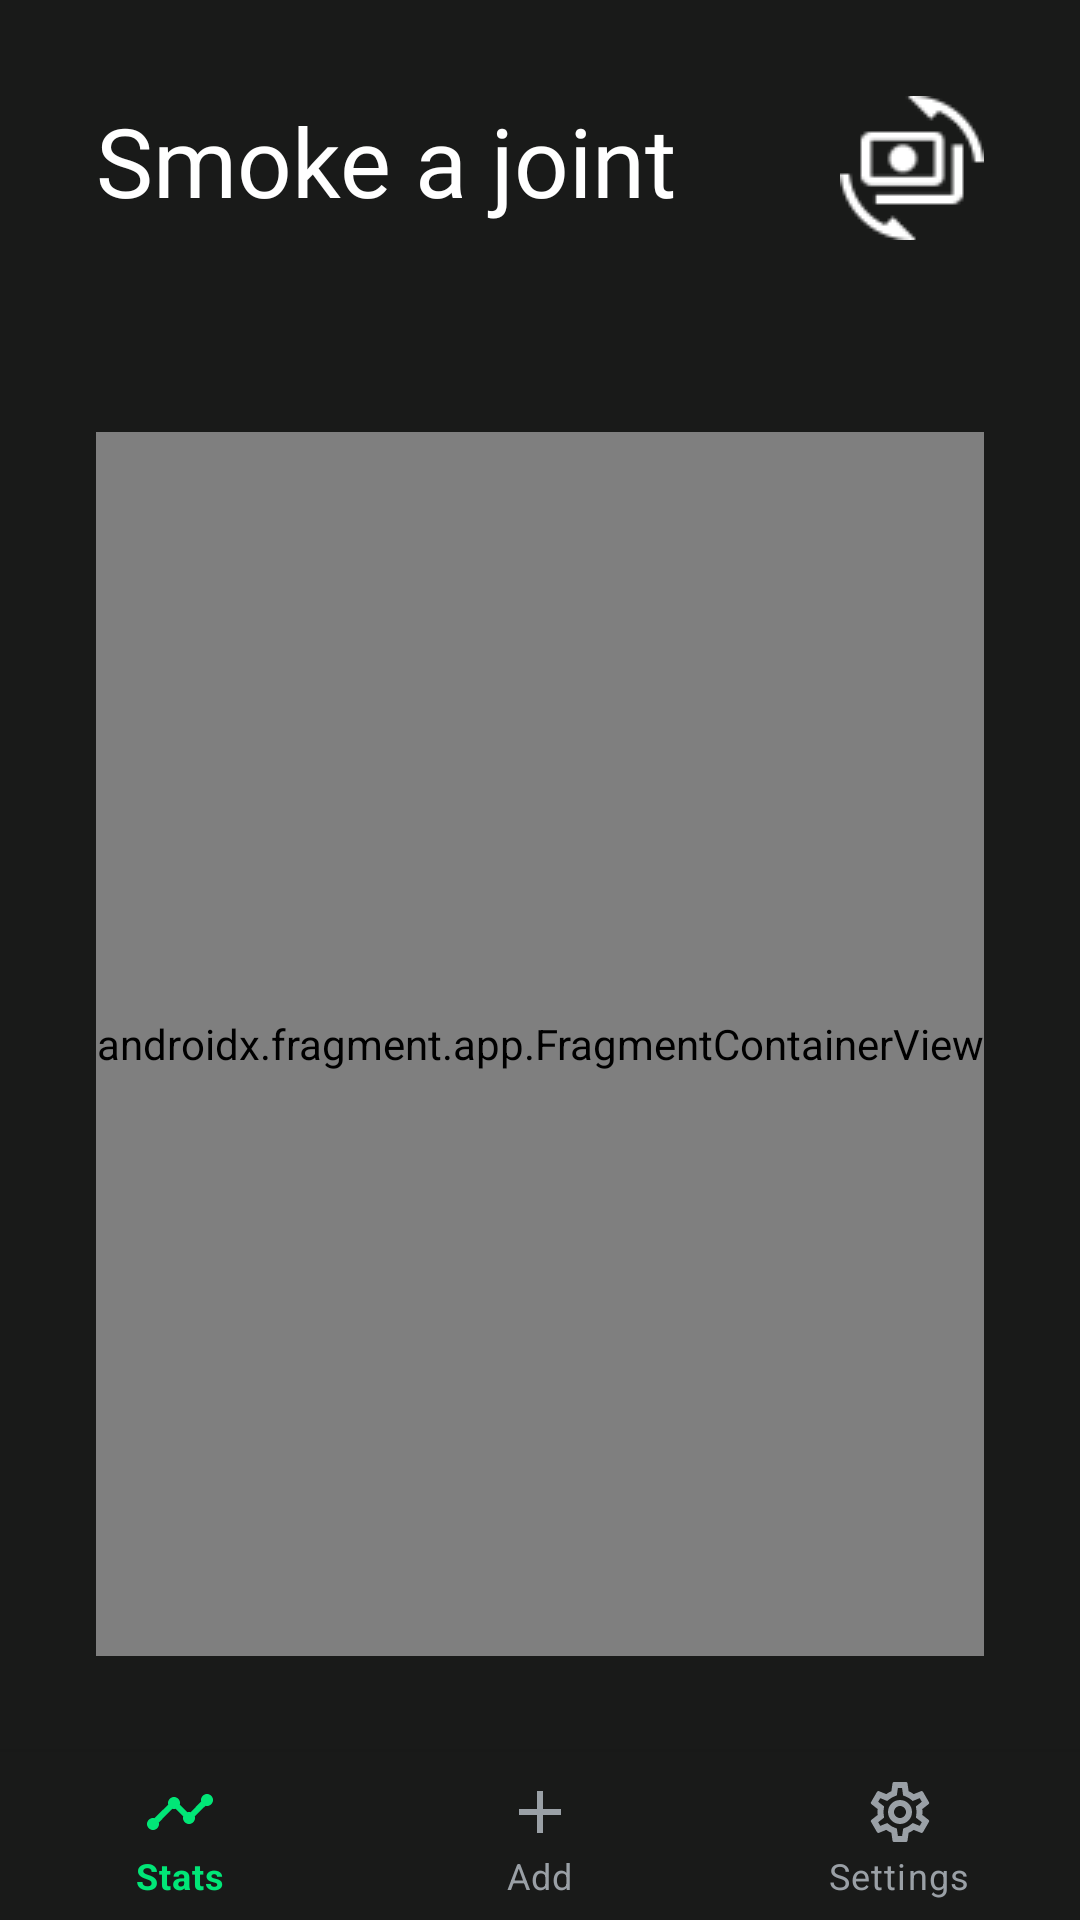

Where to tap for icons on this 1080*1920 app screen, as point (x, y):
back to money: point (912, 168)
